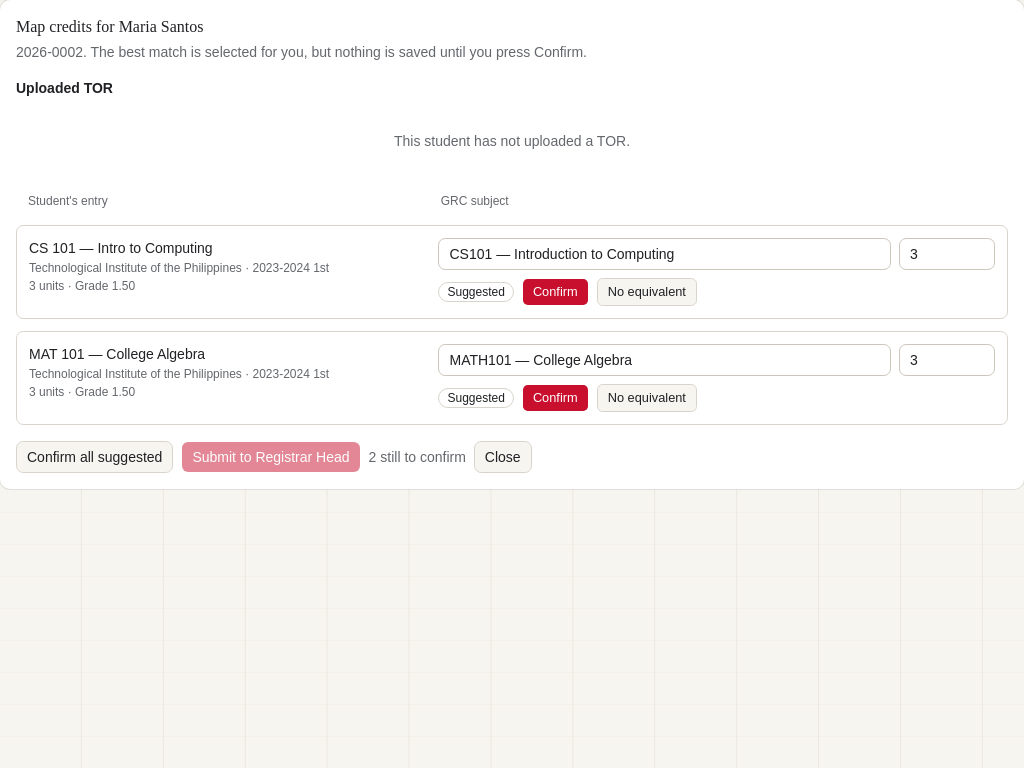
StudentCreditMappingPanel › confirms every pre-selected row once with Confirm all suggested
The image size is (1024, 768).
Click the button "Confirm all suggested": x=95, y=457 [16,441,173,473]
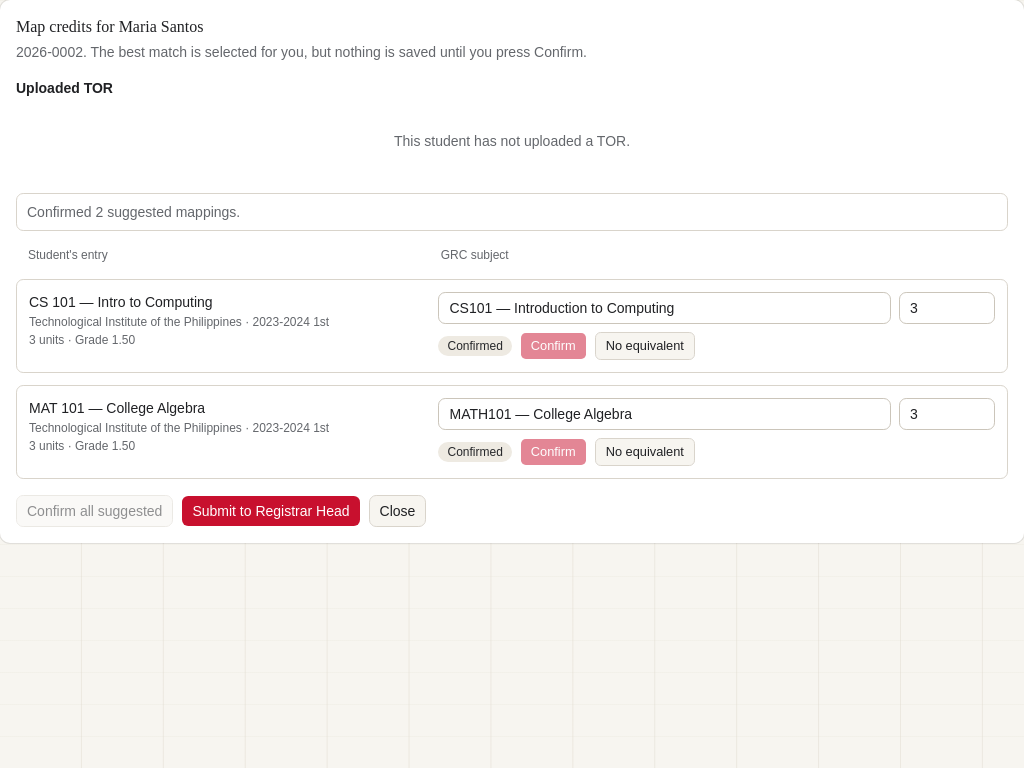
Expected: the text "Confirmed 2 suggested mappings." is shown, [27,204,240,220]
